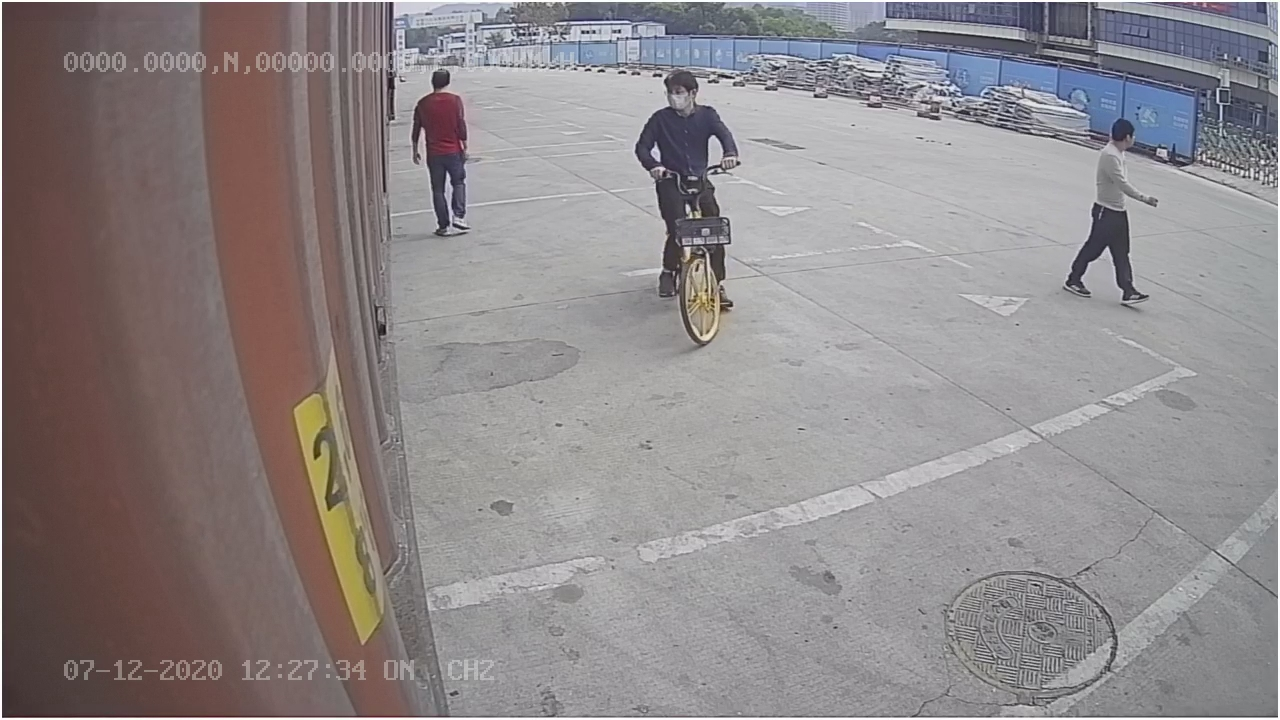person: (405, 67, 479, 243)
